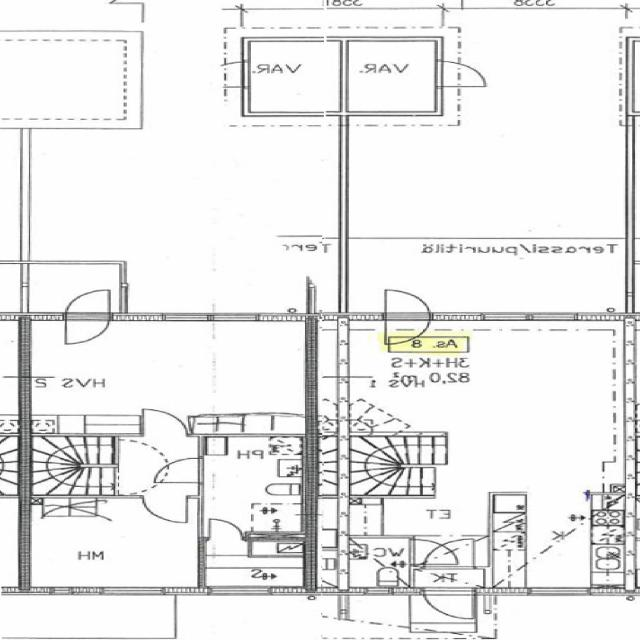door: (424, 588, 472, 623), (425, 540, 474, 570), (386, 313, 430, 345), (386, 288, 430, 320), (65, 313, 109, 345), (65, 289, 109, 320), (434, 62, 486, 86), (409, 540, 458, 564), (143, 410, 186, 437), (143, 496, 186, 523), (154, 459, 202, 483), (210, 520, 241, 542)
